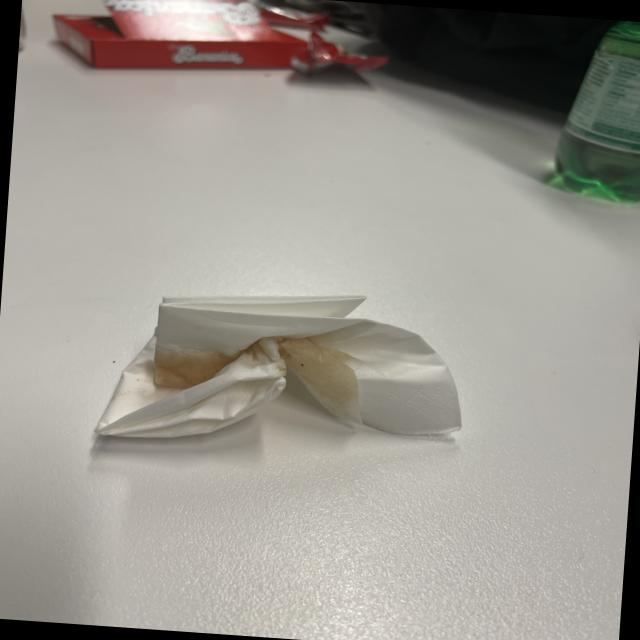organic waste: (95, 269, 474, 467)
